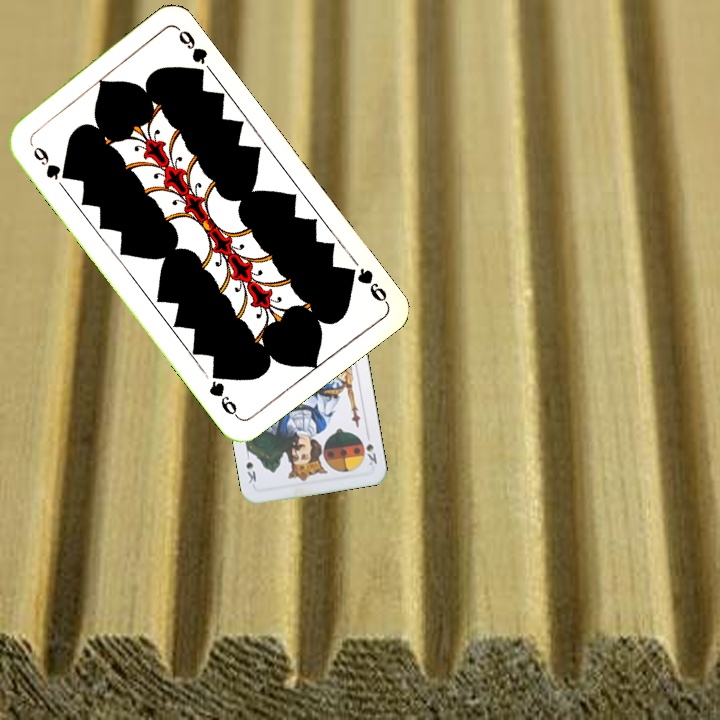G9: (340, 263, 390, 306), (29, 142, 72, 183)
SK: (358, 436, 380, 468)
